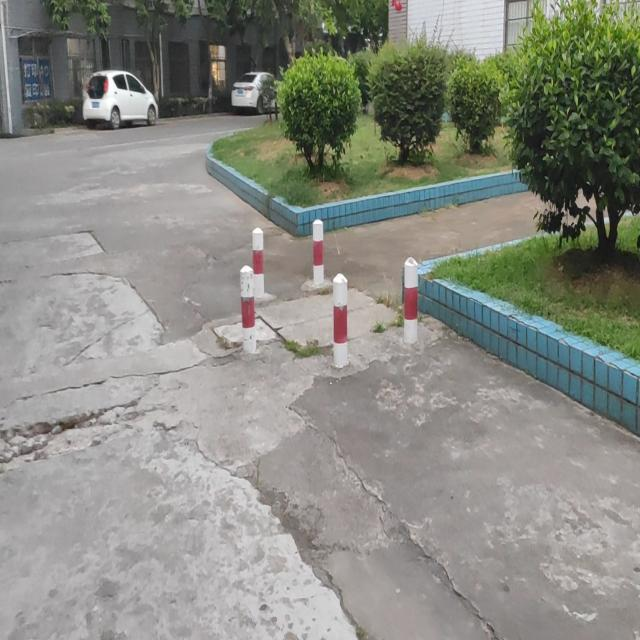car: (82, 67, 158, 130), (229, 69, 277, 114)
warning_column: (329, 271, 351, 366), (238, 264, 258, 353), (401, 255, 420, 340), (249, 227, 267, 294), (311, 218, 325, 286)
